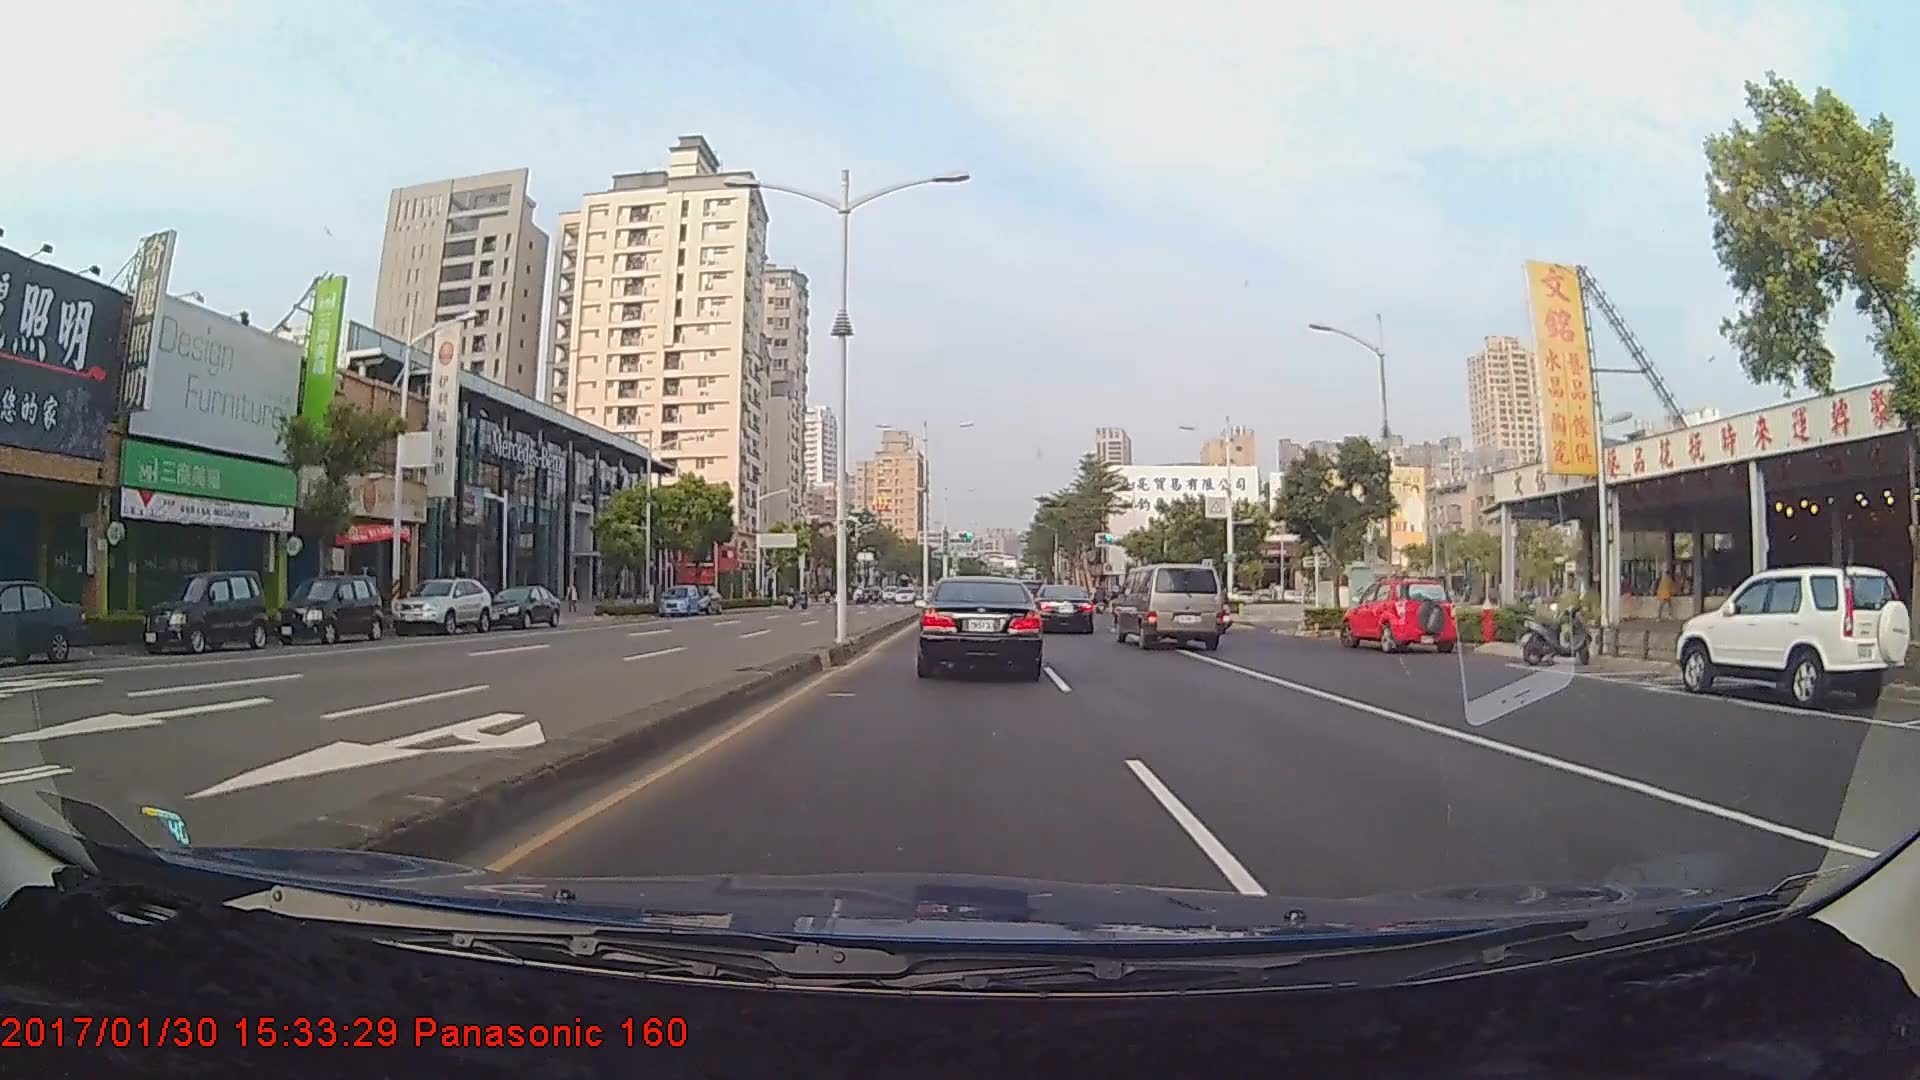vehicle: (1672, 564, 1911, 709), (915, 575, 1044, 678), (1110, 560, 1226, 654), (138, 571, 266, 655), (1342, 578, 1456, 655), (0, 582, 87, 667), (282, 576, 381, 645), (392, 578, 495, 636), (483, 584, 560, 632), (1031, 583, 1095, 636), (655, 585, 699, 617)
